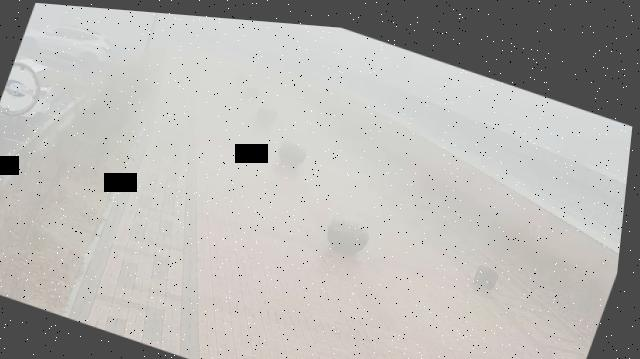bag: (475, 254, 507, 285)
